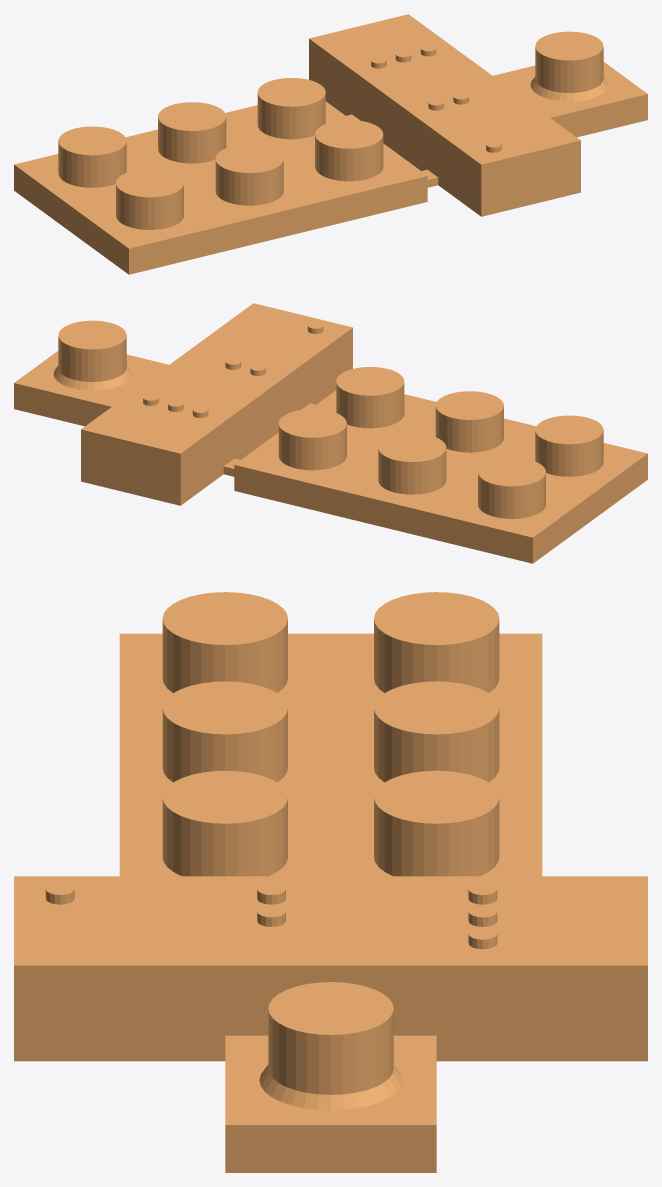
File: forge-mount-first-print.glb
The picture shows the model from 3 angles, top to bottom: view 1: azimuth 30°, elevation 25°; view 2: azimuth 150°, elevation 25°; view 3: azimuth 270°, elevation 25°; orthographic projection. The views are drawn at different scales.
Visible parts, largest first — view 1: forge-mount-first-print; view 2: forge-mount-first-print; view 3: forge-mount-first-print.
Boxes of the visible parts, x1,y1,x2,y2 form: forge-mount-first-print: (14, 14, 647, 274); forge-mount-first-print: (14, 303, 647, 563); forge-mount-first-print: (14, 592, 647, 1172).
Size of the model in its own units: 0.088 by 0.01 by 0.048.
